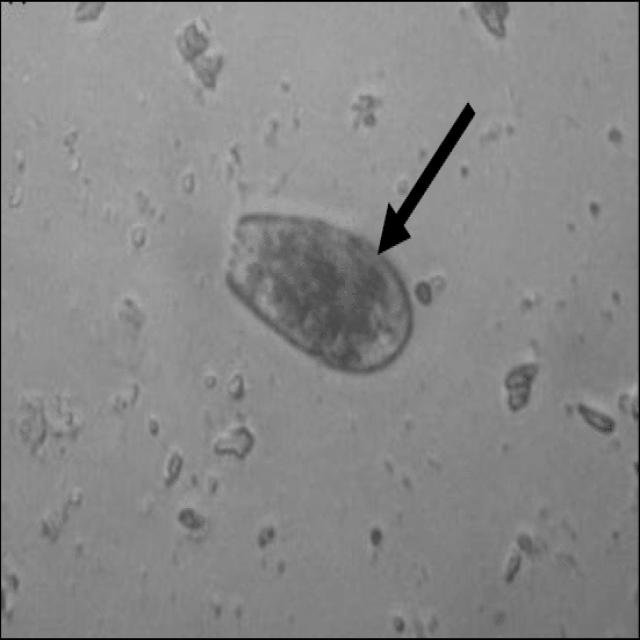Ancylostoma Spp: (218, 195, 426, 394)
